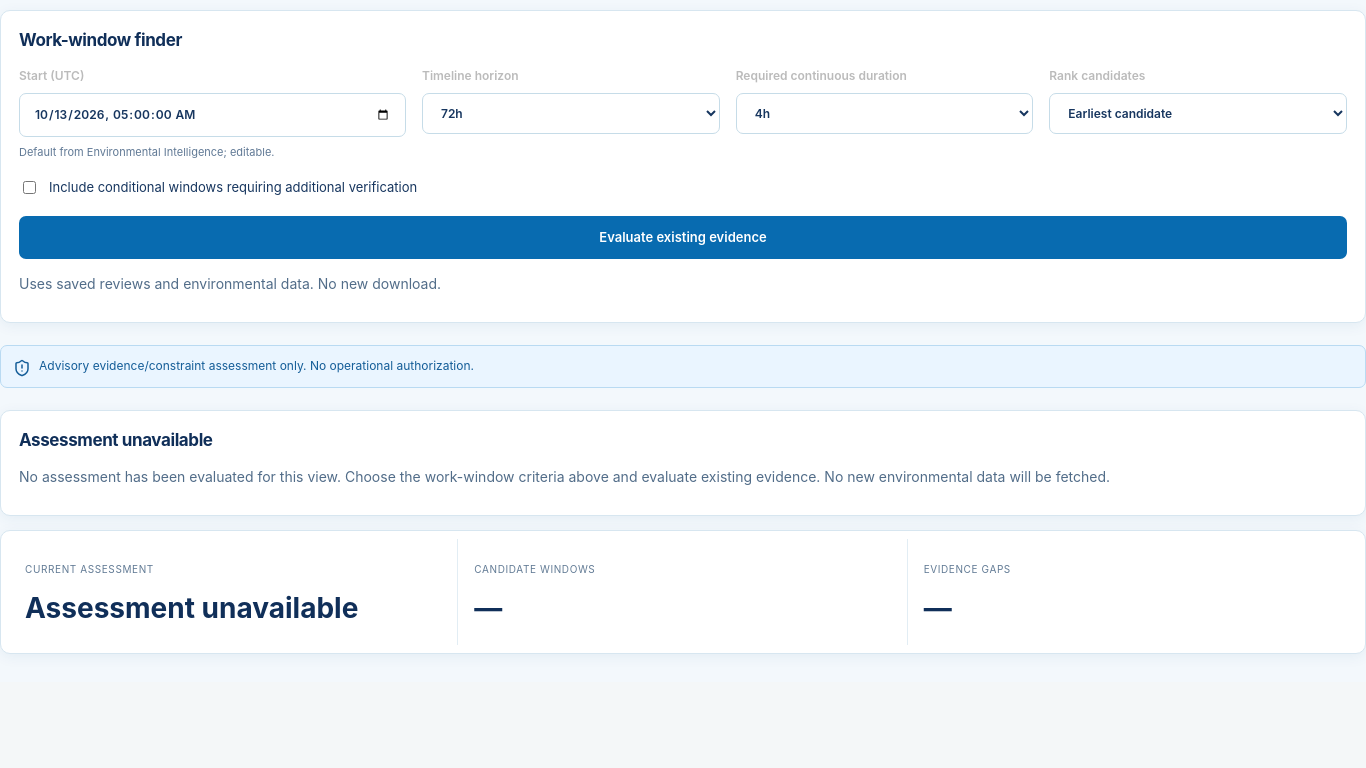
Test: specific UNKNOWN reason is consistent across current selected interval and actions; excluded turbidity is separate
The image size is (1366, 768).
Click the button "Evaluate existing evidence".
click(683, 237)  # box [19, 216, 1347, 259]
(page scrolled)
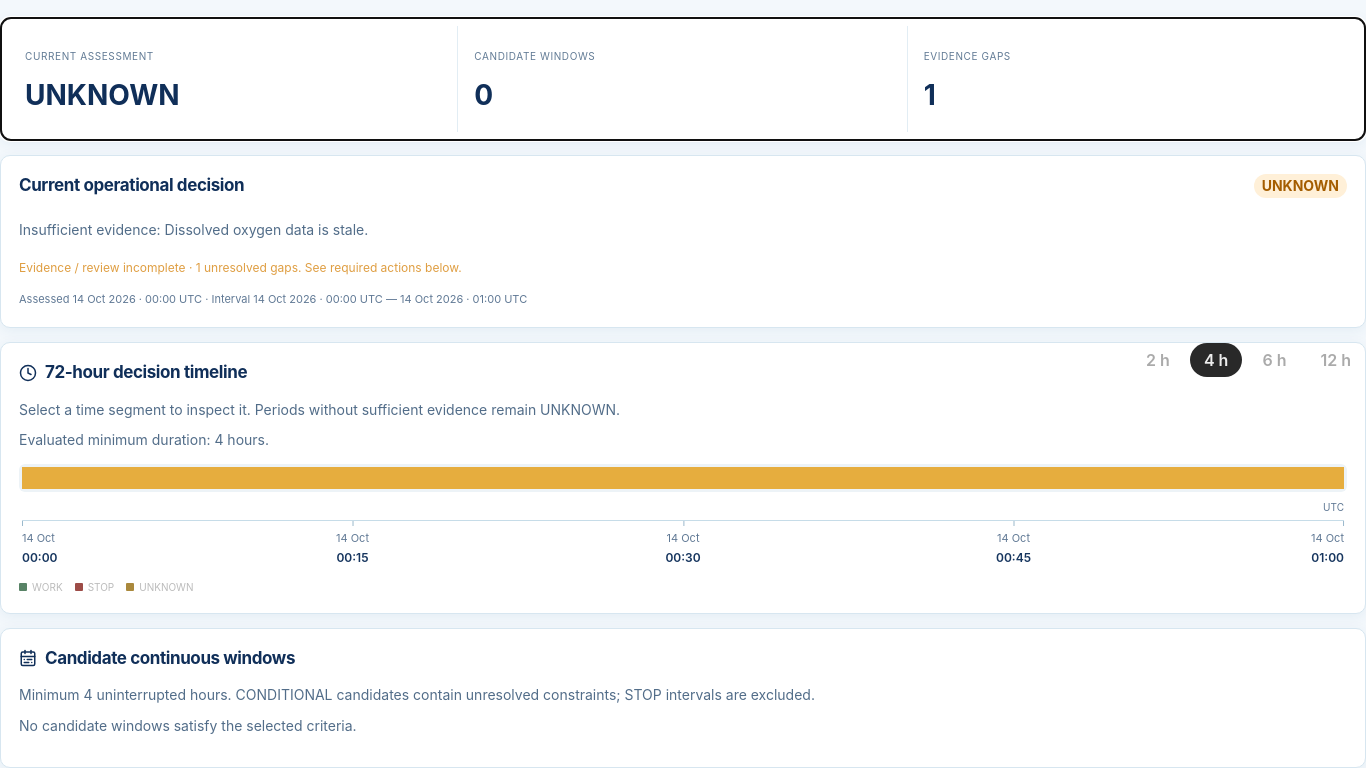
Now the heading "72-hour decision timeline" is shown, box [19, 362, 247, 382]
Now the text "Insufficient evidence: Dissolved oxygen data is stale." is shown, box [19, 219, 368, 242]
